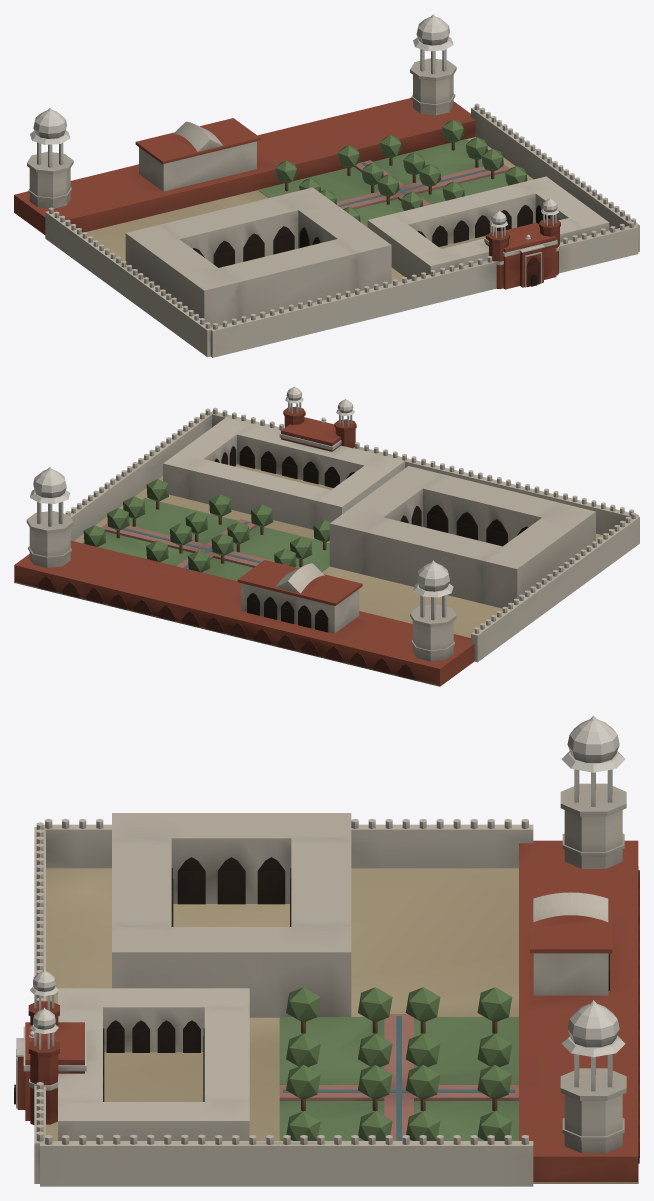
Rendered from riverfront-haveli.glb.
3 views of the same model, one above another, from view 1: azimuth 30°, elevation 25°; view 2: azimuth 150°, elevation 25°; view 3: azimuth 270°, elevation 25° (orthographic). The views are drawn at different scales.
Parts seen in each view (by area): view 1: p0_courts, p2_river terrace, p1_garden; view 2: p0_courts, p2_river terrace, p1_garden; view 3: p0_courts, p2_river terrace, p1_garden.
Boxes of the visible parts, x1,y1,x2,y2 form: p0_courts: (45, 103, 639, 357); p2_river terrace: (14, 14, 475, 234); p1_garden: (258, 120, 527, 226); p0_courts: (14, 386, 639, 686); p2_river terrace: (14, 467, 474, 686); p1_garden: (83, 479, 330, 580); p0_courts: (14, 813, 638, 1186); p2_river terrace: (519, 715, 639, 1181); p1_garden: (279, 987, 518, 1140).
Bounding box in the file's own units: 102 × 24.87 × 83.7.
